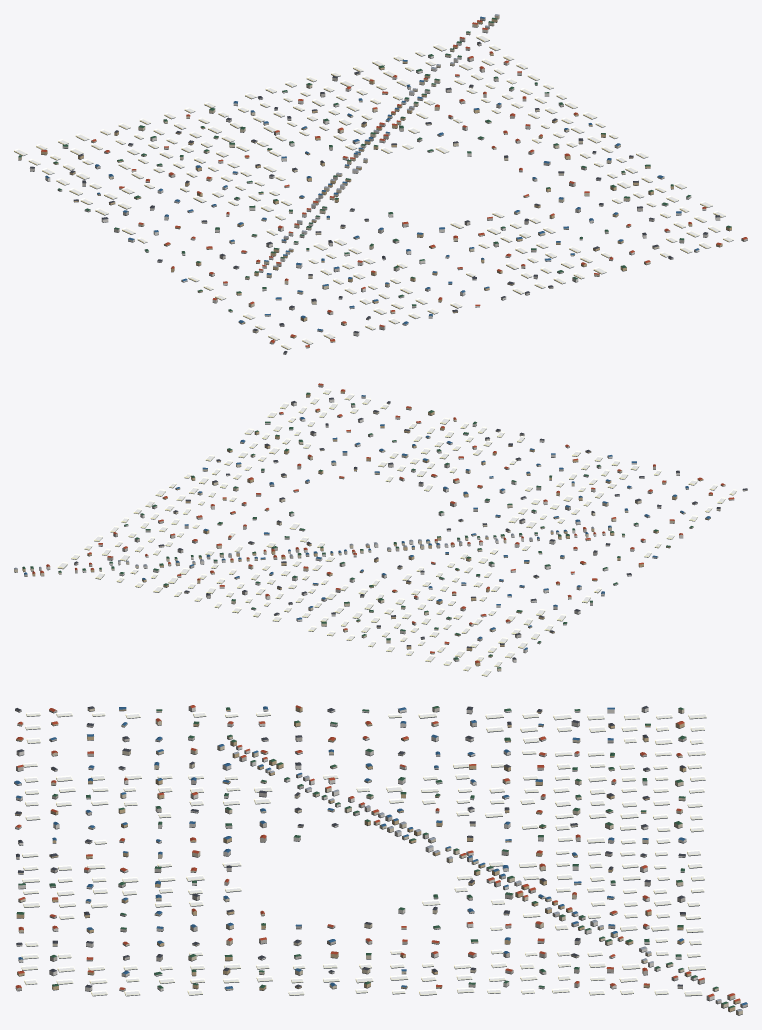
File: buildings_T_W07_N04.glb
The picture shows the model from 3 angles, top to bottom: view 1: azimuth 30°, elevation 25°; view 2: azimuth 150°, elevation 25°; view 3: azimuth 270°, elevation 25°; orthographic projection. The views are drawn at different scales.
Visible parts, largest first — view 1: T_W07_N04_roofs_agri_greenhouse_arch, T_W07_N04_slope_seating_foundations, T_W07_N04_walls_wall_dalat_cream_stucco, T_W07_N04_walls_wall_modern_warm_white, T_W07_N04_walls_wall_french_ochre_villa, T_W07_N04_walls_wall_pastel_sand_gray, T_W07_N04_roofs_roof_terracotta_gable, T_W07_N04_roofs_roof_pine_green_hip, T_W07_N04_roofs_roof_highland_blue_gable, T_W07_N04_roofs_roof_slate_French_villa_hip; view 2: T_W07_N04_roofs_agri_greenhouse_arch, T_W07_N04_slope_seating_foundations, T_W07_N04_walls_wall_dalat_cream_stucco, T_W07_N04_walls_wall_modern_warm_white, T_W07_N04_walls_wall_pastel_sand_gray, T_W07_N04_walls_wall_french_ochre_villa, T_W07_N04_roofs_roof_terracotta_gable, T_W07_N04_roofs_roof_pine_green_hip, T_W07_N04_roofs_roof_highland_blue_gable, T_W07_N04_roofs_roof_slate_French_villa_hip; view 3: T_W07_N04_roofs_agri_greenhouse_arch, T_W07_N04_slope_seating_foundations, T_W07_N04_walls_wall_dalat_cream_stucco, T_W07_N04_walls_wall_modern_warm_white, T_W07_N04_walls_wall_french_ochre_villa, T_W07_N04_walls_wall_pastel_sand_gray, T_W07_N04_roofs_roof_terracotta_gable, T_W07_N04_roofs_roof_pine_green_hip, T_W07_N04_roofs_roof_highland_blue_gable, T_W07_N04_roofs_roof_slate_French_villa_hip.
Part boxes in pixels (x1,y1,x2,y2): T_W07_N04_roofs_agri_greenhouse_arch: [14, 34, 733, 349]; T_W07_N04_slope_seating_foundations: [14, 18, 747, 354]; T_W07_N04_walls_wall_dalat_cream_stucco: [18, 15, 664, 347]; T_W07_N04_walls_wall_modern_warm_white: [30, 29, 720, 335]; T_W07_N04_walls_wall_french_ochre_villa: [41, 19, 731, 341]; T_W07_N04_walls_wall_pastel_sand_gray: [57, 17, 747, 354]; T_W07_N04_roofs_roof_terracotta_gable: [41, 20, 747, 346]; T_W07_N04_roofs_roof_pine_green_hip: [18, 17, 731, 311]; T_W07_N04_roofs_roof_highland_blue_gable: [45, 16, 699, 330]; T_W07_N04_roofs_roof_slate_French_villa_hip: [30, 41, 720, 353]; T_W07_N04_roofs_agri_greenhouse_arch: [57, 389, 736, 675]; T_W07_N04_slope_seating_foundations: [14, 386, 747, 676]; T_W07_N04_walls_wall_dalat_cream_stucco: [14, 407, 725, 671]; T_W07_N04_walls_wall_modern_warm_white: [46, 396, 683, 662]; T_W07_N04_walls_wall_pastel_sand_gray: [24, 384, 747, 661]; T_W07_N04_walls_wall_french_ochre_villa: [22, 390, 712, 665]; T_W07_N04_roofs_roof_terracotta_gable: [32, 383, 734, 663]; T_W07_N04_roofs_roof_pine_green_hip: [22, 392, 693, 668]; T_W07_N04_roofs_roof_highland_blue_gable: [24, 395, 710, 649]; T_W07_N04_roofs_roof_slate_French_villa_hip: [74, 397, 747, 659]; T_W07_N04_roofs_agri_greenhouse_arch: [21, 711, 706, 995]; T_W07_N04_slope_seating_foundations: [14, 710, 747, 1015]; T_W07_N04_walls_wall_dalat_cream_stucco: [17, 708, 742, 1015]; T_W07_N04_walls_wall_modern_warm_white: [14, 706, 714, 1000]; T_W07_N04_walls_wall_french_ochre_villa: [15, 707, 740, 1011]; T_W07_N04_walls_wall_pastel_sand_gray: [15, 707, 747, 1007]; T_W07_N04_roofs_roof_terracotta_gable: [15, 705, 740, 1001]; T_W07_N04_roofs_roof_pine_green_hip: [16, 706, 735, 1008]; T_W07_N04_roofs_roof_highland_blue_gable: [14, 706, 747, 1005]; T_W07_N04_roofs_roof_slate_French_villa_hip: [15, 706, 685, 987].
Size of the model in its own units: 1849 by 29.42 by 1857.
